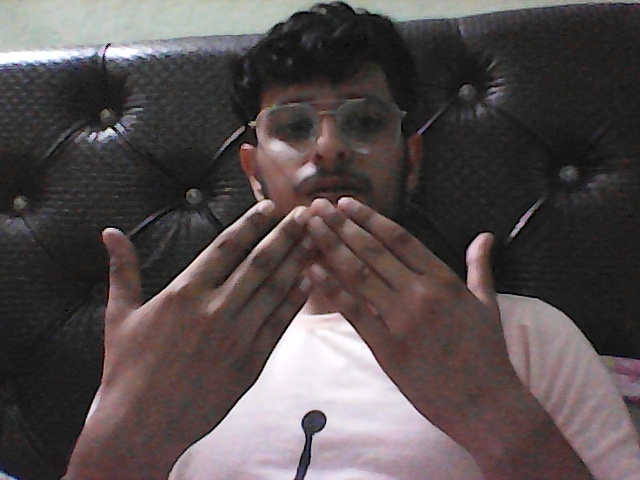thankyou: (45, 195, 533, 455)
